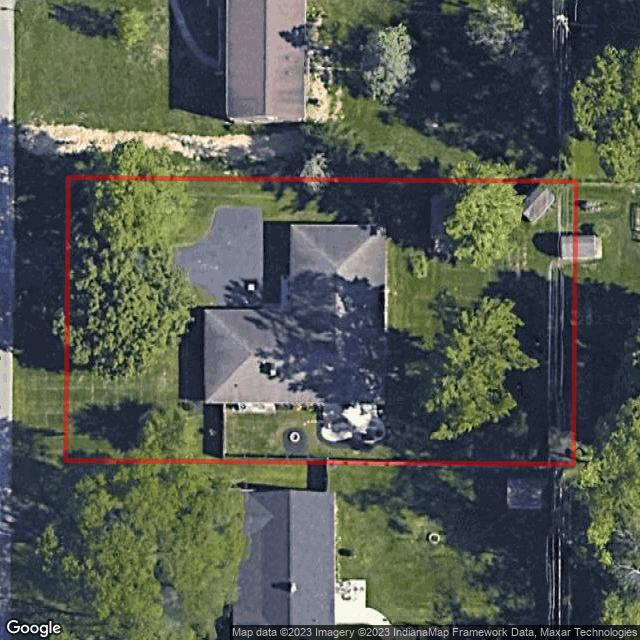Extra Lawn: (11, 177, 65, 459)
House: (204, 222, 386, 446)
Other: (522, 185, 555, 223), (430, 195, 449, 252), (289, 431, 301, 443)
Sidewalk: (175, 208, 264, 305)
